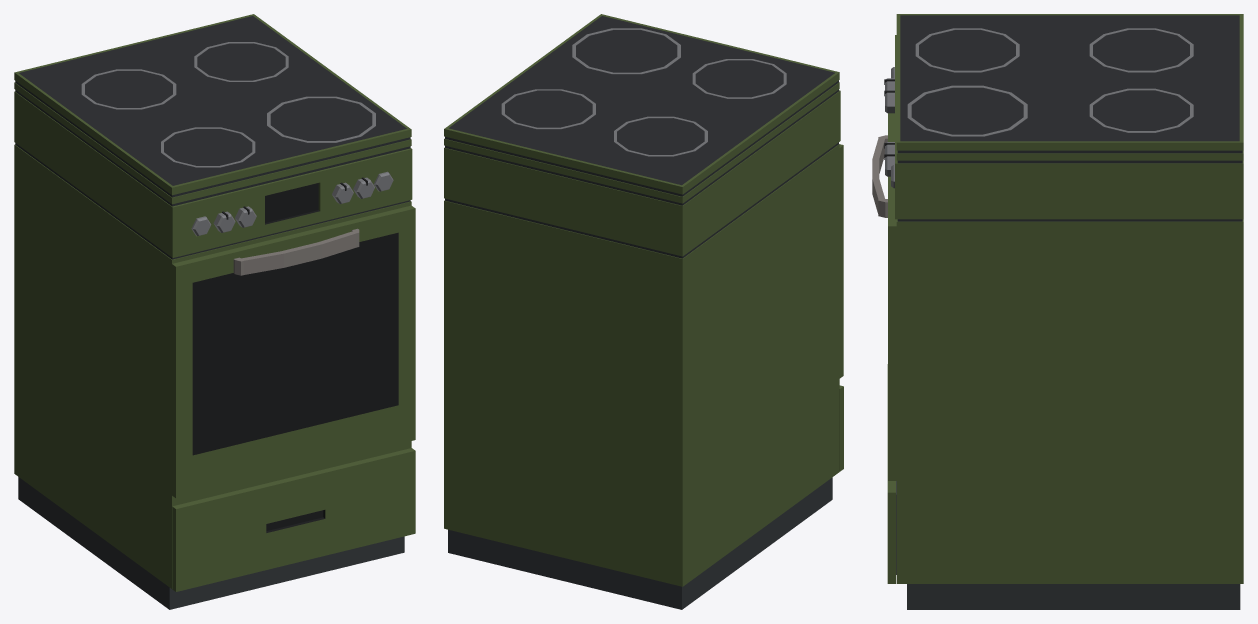
File: electricstove_01_B.gltf
3 renders of one model, left to right at view 1: azimuth 30°, elevation 25°; view 2: azimuth 150°, elevation 25°; view 3: azimuth 270°, elevation 25°, orthographic. The views are drawn at different scales.
Parts seen in each view (by area): view 1: electricstove_01_B, Doorforelectricstove_01_B, pulloutshelfforelectricstove_01_B; view 2: electricstove_01_B, Doorforelectricstove_01_B; view 3: electricstove_01_B, Doorforelectricstove_01_B, pulloutshelfforelectricstove_01_B.
Boxes of the visible parts, x1,y1,x2,y2 form: electricstove_01_B: (14, 14, 412, 609); Doorforelectricstove_01_B: (172, 205, 415, 498); pulloutshelfforelectricstove_01_B: (172, 448, 415, 591); electricstove_01_B: (444, 14, 840, 609); Doorforelectricstove_01_B: (839, 144, 843, 378); electricstove_01_B: (895, 14, 1243, 609); Doorforelectricstove_01_B: (872, 113, 896, 480); pulloutshelfforelectricstove_01_B: (887, 364, 896, 583).
Bounding box in the file's own units: 0.5 × 0.8508 × 0.6099.
Materials: 1 (1 with a texture image).
